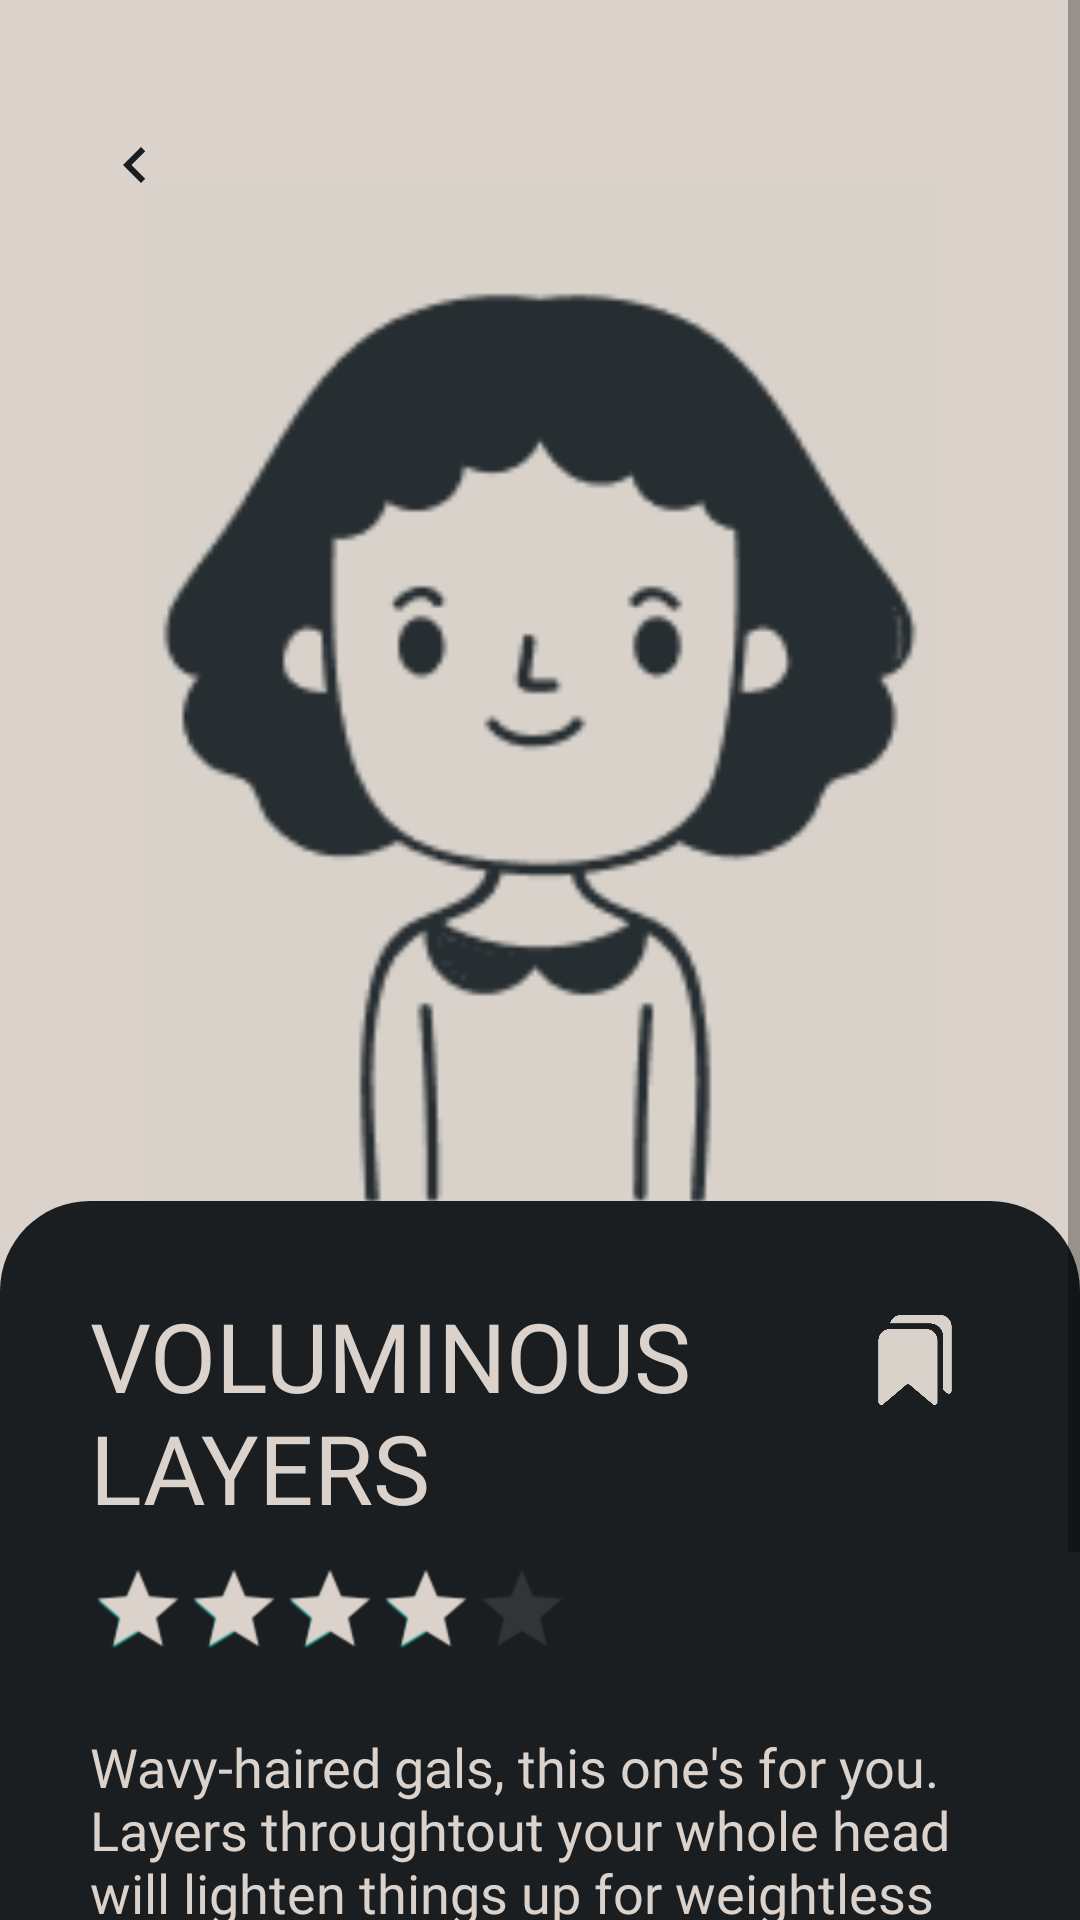

Icon click points for this 1080px×1920px phone screenshot, format (x=x, y=y):
bookmark: (x=915, y=1360)
